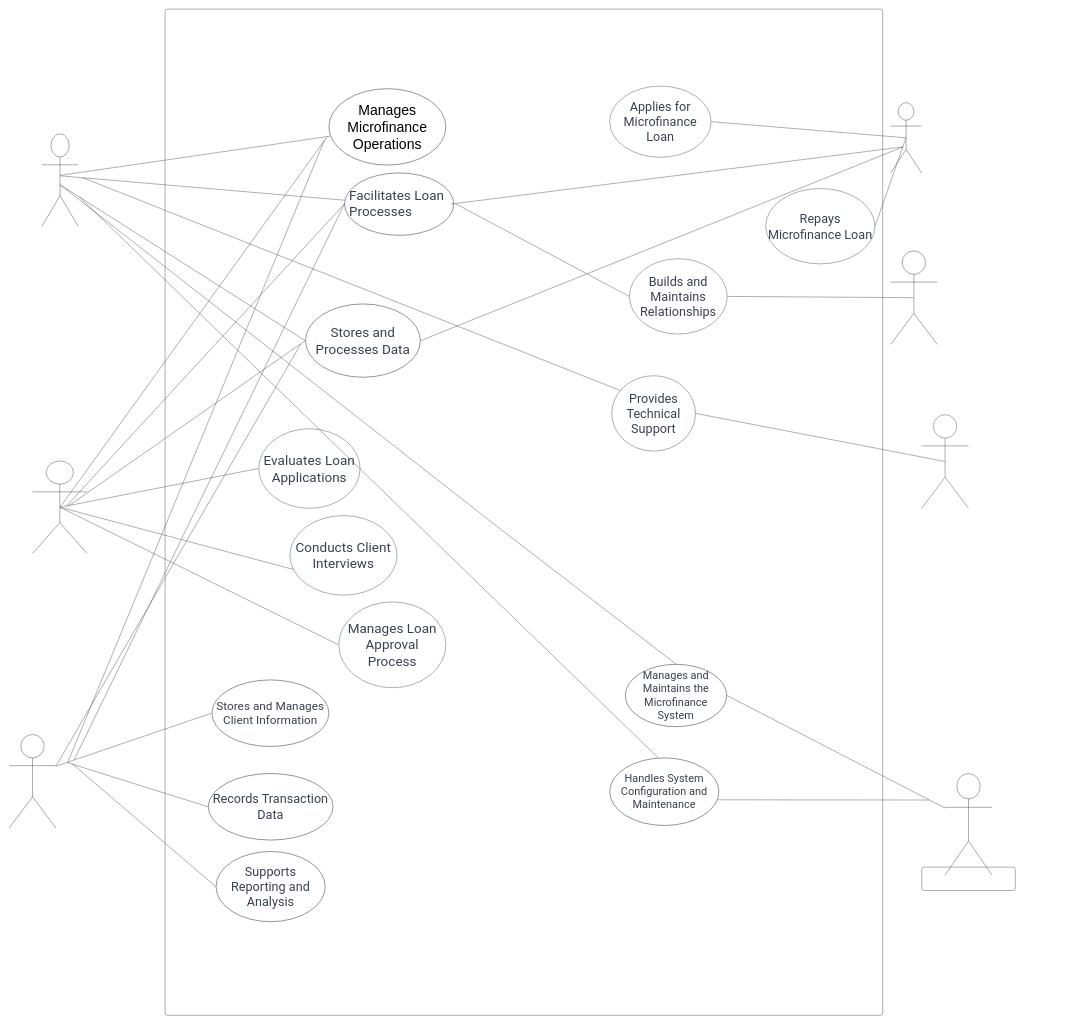
Image size: 1067x1024. Some labels were removed from this diagram. The centre of each missing label's shape, as x and y in pixels:
Client: the point at 906,137
Database Server: the point at 32,781
IT Support: the point at 944,461
Loan Officer: the point at 59,507
Microfinance System: the point at 59,179
Relationship Manager: the point at 913,297
System Administator: the point at 968,878
